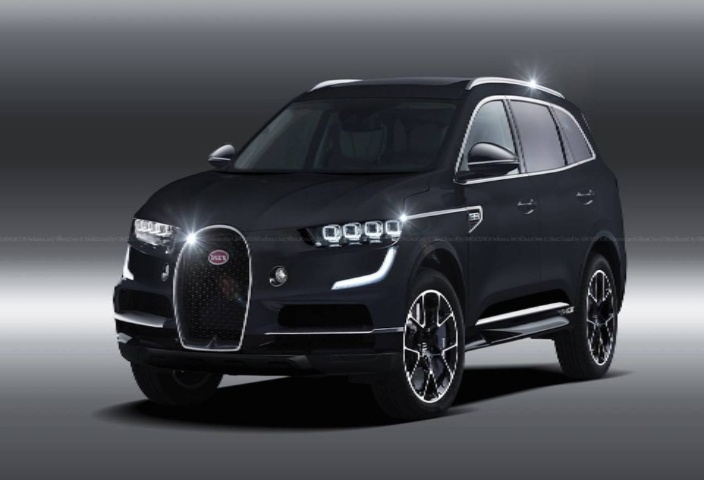camper: (85, 57, 630, 415)
